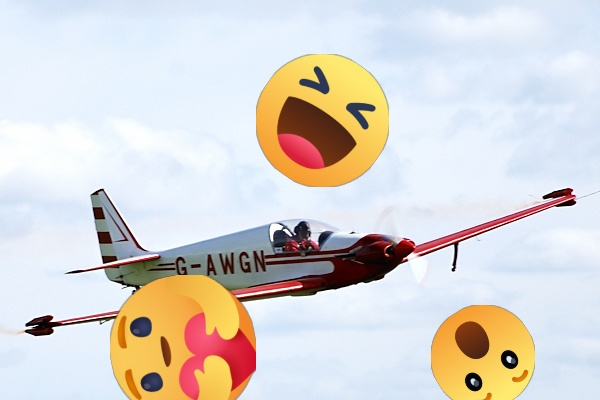care: (110, 275, 256, 400)
haha: (256, 54, 389, 187)
wow: (431, 305, 535, 400)
